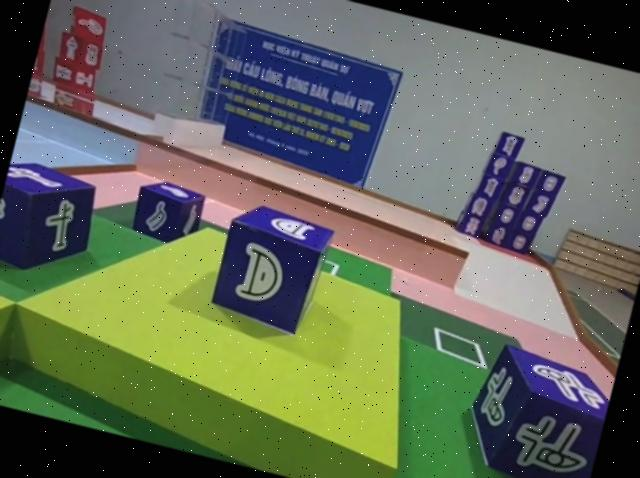R2 Real Blue: (453, 344, 616, 478), (206, 199, 338, 341), (0, 157, 105, 285), (125, 177, 207, 253)
